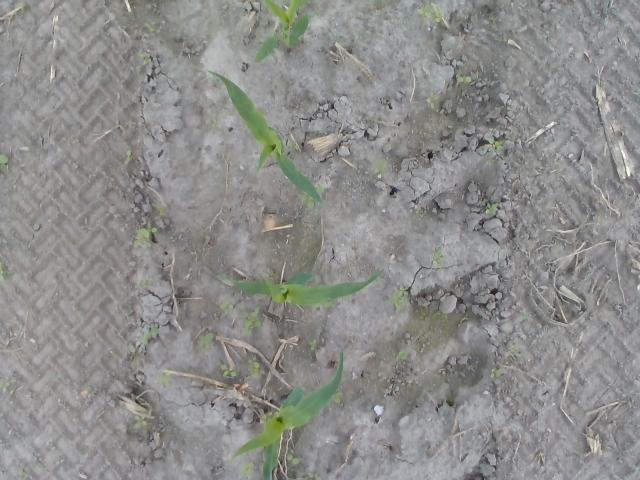Maize: (204, 68, 323, 209), (232, 352, 345, 479), (230, 268, 386, 306), (256, 1, 308, 64)
Weeds: (298, 187, 324, 210), (242, 307, 264, 332), (388, 287, 410, 312), (418, 4, 443, 24), (134, 229, 156, 249), (137, 330, 159, 350), (234, 463, 256, 480), (434, 246, 446, 270), (201, 334, 217, 352), (142, 24, 162, 37), (249, 359, 261, 380), (153, 204, 169, 219), (488, 135, 502, 152), (134, 414, 148, 431), (374, 160, 388, 176), (1, 378, 14, 394), (284, 454, 301, 466), (0, 262, 10, 281), (222, 302, 235, 316), (138, 54, 148, 72), (487, 202, 499, 216), (222, 365, 236, 376), (17, 469, 31, 480), (427, 93, 436, 110), (0, 156, 8, 173), (159, 371, 168, 386), (509, 350, 522, 360), (458, 76, 472, 84), (490, 369, 502, 378), (396, 352, 407, 360), (312, 341, 321, 350), (37, 461, 45, 468), (522, 314, 530, 320)
